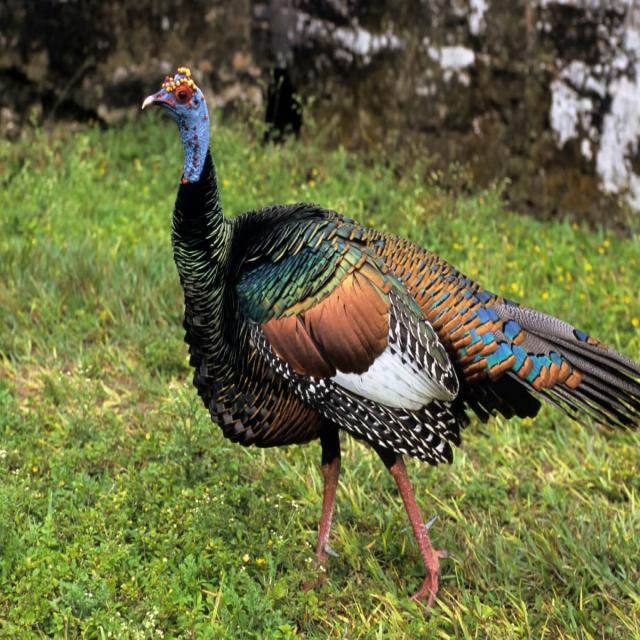turkey: (143, 68, 640, 600)
